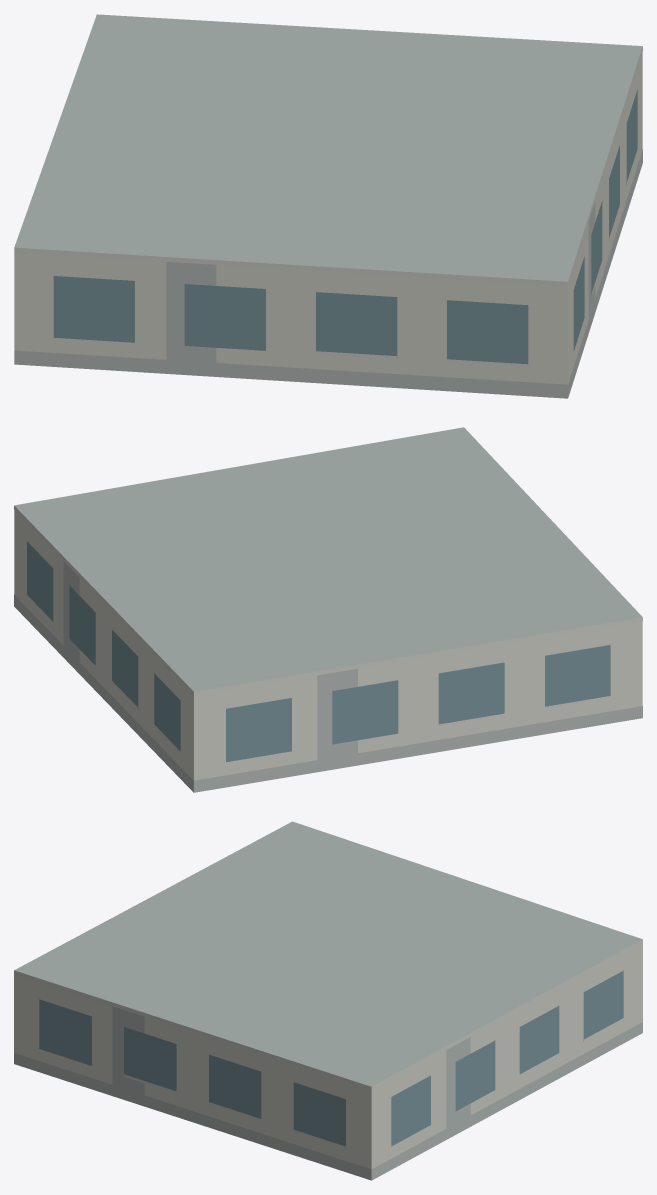
Rendered from survey-upis-32979320.glb.
The picture shows the model from 3 angles, top to bottom: view 1: azimuth 30°, elevation 25°; view 2: azimuth 150°, elevation 25°; view 3: azimuth 270°, elevation 25°; orthographic projection. The views are drawn at different scales.
Parts seen in each view (by area): view 1: survey-upis-32979320.tmp; view 2: survey-upis-32979320.tmp; view 3: survey-upis-32979320.tmp.
Boxes of the visible parts, box(x1,y1,x2,y2) form: survey-upis-32979320.tmp: box(14, 14, 642, 398); survey-upis-32979320.tmp: box(14, 427, 642, 792); survey-upis-32979320.tmp: box(14, 821, 642, 1180).
Bounding box in the file's own units: 18.54 × 3.05 × 18.56.
